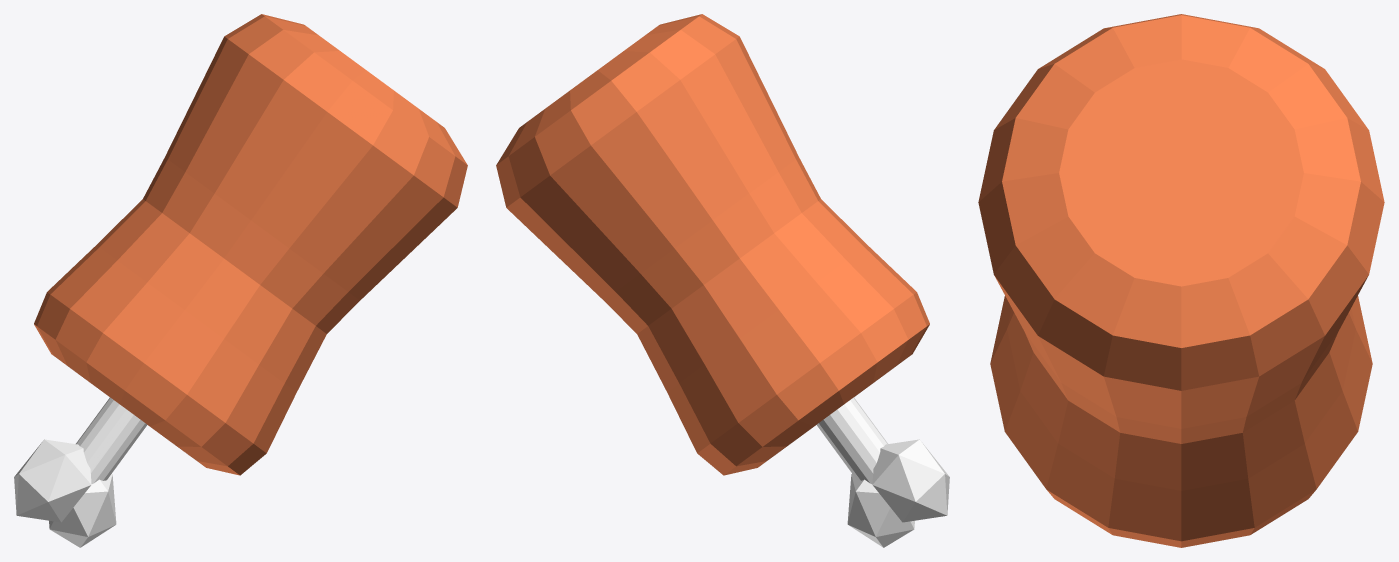
3 views of the same model, side by side, from view 1: azimuth 30°, elevation 25°; view 2: azimuth 150°, elevation 25°; view 3: azimuth 270°, elevation 25° (orthographic). The views are drawn at different scales.
Visible parts, largest first — view 1: meat; view 2: meat; view 3: meat.
Boxes of the visible parts, x1,y1,x2,y2 form: meat: (14, 14, 467, 547); meat: (496, 14, 949, 547); meat: (978, 14, 1384, 547).
Bounding box in the file's own units: 290 × 303 × 171.
